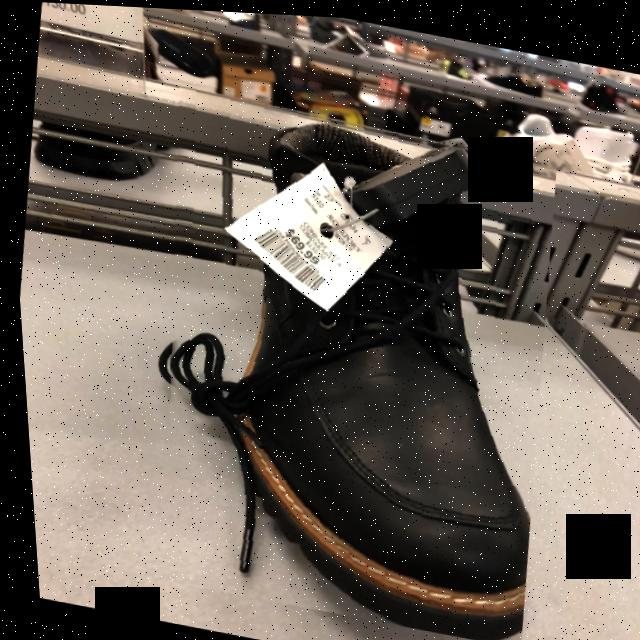shoe: (164, 123, 523, 638)
